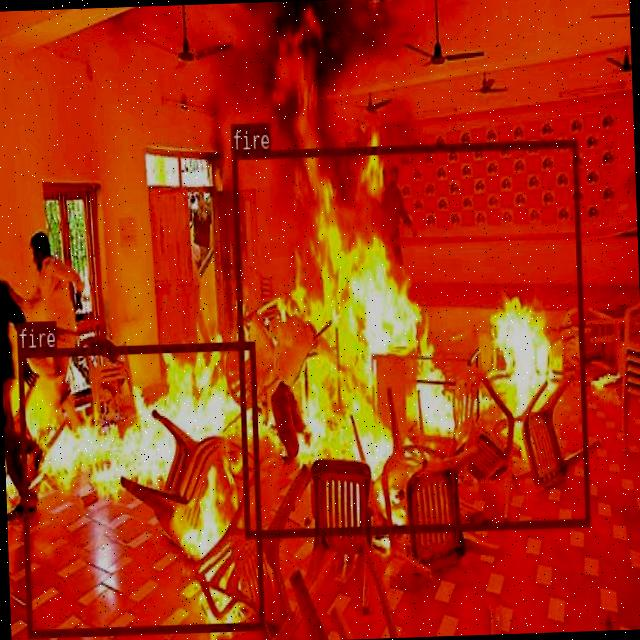fire: (231, 137, 588, 537), (16, 339, 263, 636)
